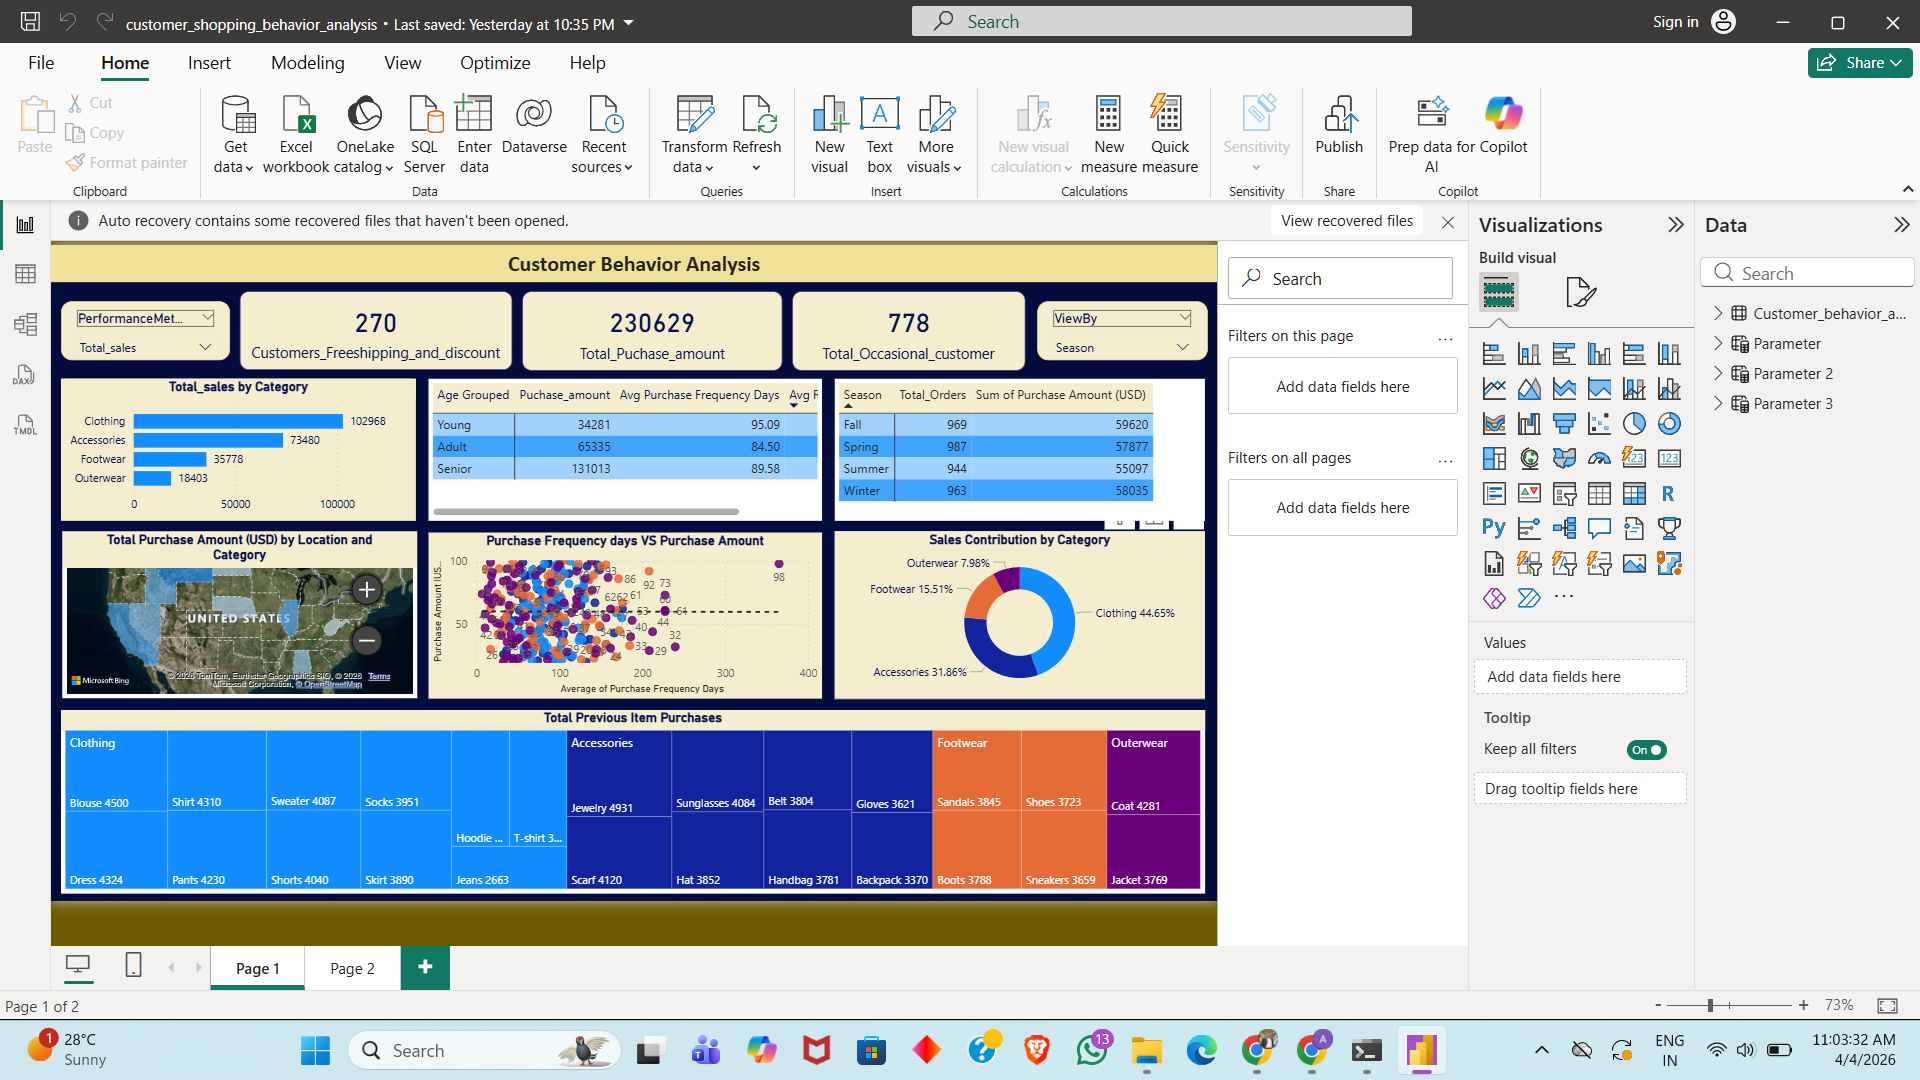

The page's visual inventory and layout, read from the dashboard file:
{"tool":"powerbi","page":{"name":"Page 1","canvas":[1280,720],"ordinal":0},"visuals":[{"type":"textbox","box":[0,0,1280.3,40.8],"z":0},{"type":"filledMap","title":"Total Purchase Amount (USD) by Location and Category","fields":{"Category":["Customer_behavior_analysis_cleaned.Location"]},"box":[12.1,314.9,389.7,183.4],"z":1000},{"type":"donutChart","title":"Sales Contribution by Category","fields":{"Y":["Sum(Customer_behavior_analysis_cleaned.Purchase Amount (USD))"],"Category":["Customer_behavior_analysis_cleaned.Category"]},"box":[860.2,314.9,406.6,183.4],"z":2000},{"type":"scatterChart","title":"Purchase Frequency days VS Purchase Amount","fields":{"X":["Customer_behavior_analysis_cleaned.Purchase Frequency Days"],"Series":["Customer_behavior_analysis_cleaned.Category"],"Y":["Customer_behavior_analysis_cleaned.Purchase Amount (USD)"]},"box":[413.8,316.1,431.9,182.2],"z":3000},{"type":"treemap","title":"Total Previous Item Purchases","fields":{"Group":["Customer_behavior_analysis_cleaned.Category"],"Values":["Sum(Customer_behavior_analysis_cleaned.Previous Purchases)"],"Details":["Customer_behavior_analysis_cleaned.Item Purchased"]},"box":[10.9,510.3,1255.9,201.5],"z":4000},{"type":"card","title":"Cutomers","fields":{"Values":["Customer_behavior_analysis_cleaned.Customers_shipping_and_discount"]},"box":[207.2,50.8,299.1,86.4],"z":5000},{"type":"slicer","fields":{"Values":["Parameter.Parameter"]},"box":[10.9,61.5,185.8,65.1],"z":6000},{"type":"clusteredBarChart","fields":{"Y":["Customer_behavior_analysis_cleaned.Puchase_amount"],"Category":["Customer_behavior_analysis_cleaned.Category"]},"box":[10.9,147.2,389.7,155.6],"z":7000},{"type":"pivotTable","fields":{"Rows":["Customer_behavior_analysis_cleaned.Age Grouped"],"Values":["Customer_behavior_analysis_cleaned.Total_sales","Avg(Customer_behavior_analysis_cleaned.Purchase Frequency Days)","Avg(Customer_behavior_analysis_cleaned.Review Rating)"]},"box":[413.8,147.2,431.9,155.6],"z":8000},{"type":"pivotTable","fields":{"Rows":["Customer_behavior_analysis_cleaned.Season"],"Values":["Customer_behavior_analysis_cleaned.Total_Orders","Sum(Customer_behavior_analysis_cleaned.Purchase Amount (USD))"]},"box":[860.2,147.2,406.6,155.6],"z":9000},{"type":"slicer","fields":{"Values":["Parameter 2.Parameter"]},"box":[1082.2,61.5,187,65.1],"z":10000},{"type":"card","title":"Cutomers","fields":{"Values":["Customer_behavior_analysis_cleaned.Puchase_amount"]},"box":[517.6,50.7,285.9,86.9],"z":11000},{"type":"card","title":"Cutomers","fields":{"Values":["Customer_behavior_analysis_cleaned.Frequent_customer"]},"box":[814.3,50.7,255.8,86.9],"z":12000}]}

Visuals, with their boxes on the page's 1280x720 design canvas (x1, y1, x2, y2). These are canvas units, not pixel positions in the 1920x1080 screenshot, which may show the page scaled, cropped or inside an application window:
textbox: locate(0, 0, 1280, 41)
"Total Purchase Amount (USD) by Location and Category" filledMap: locate(12, 315, 402, 498)
"Sales Contribution by Category" donutChart: locate(860, 315, 1267, 498)
"Purchase Frequency days VS Purchase Amount" scatterChart: locate(414, 316, 846, 498)
"Total Previous Item Purchases" treemap: locate(11, 510, 1267, 712)
"Cutomers" card: locate(207, 51, 506, 137)
slicer - Parameter.Parameter: locate(11, 62, 197, 127)
clusteredBarChart - Customer_behavior_analysis_cleaned.Puchase_amount x Customer_behavior_analysis_cleaned.Category: locate(11, 147, 401, 303)
pivotTable - Customer_behavior_analysis_cleaned.Age Grouped x Customer_behavior_analysis_cleaned.Total_sales: locate(414, 147, 846, 303)
pivotTable - Customer_behavior_analysis_cleaned.Season x Customer_behavior_analysis_cleaned.Total_Orders: locate(860, 147, 1267, 303)
slicer - Parameter 2.Parameter: locate(1082, 62, 1269, 127)
"Cutomers" card: locate(518, 51, 804, 138)
"Cutomers" card: locate(814, 51, 1070, 138)
